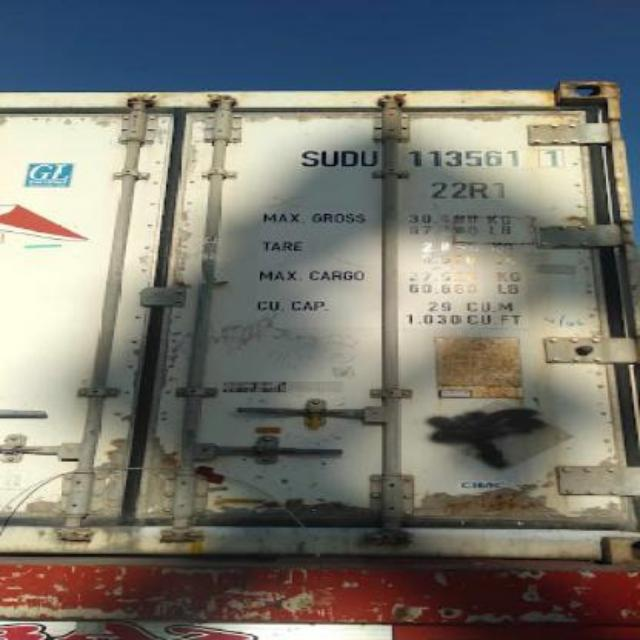1: (506, 148, 522, 168), (428, 150, 444, 166), (411, 150, 424, 166), (546, 150, 558, 166)
3: (444, 150, 462, 166)
5: (464, 150, 484, 166)
6: (486, 150, 502, 166)
D: (340, 150, 358, 166)
S: (300, 151, 320, 167)
U: (358, 150, 379, 166), (320, 151, 340, 167)
